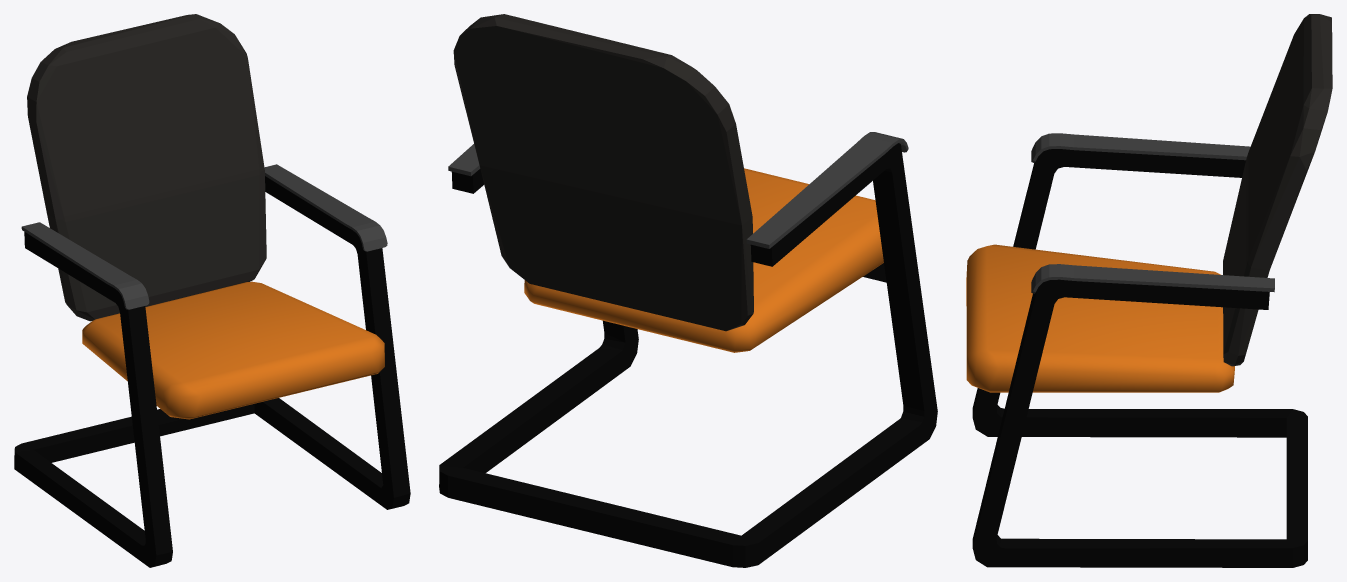
File: cadeira secretaria V1.fbx
3 views of the same model, side by side, from view 1: azimuth 30°, elevation 25°; view 2: azimuth 150°, elevation 25°; view 3: azimuth 270°, elevation 25° (orthographic). The views are drawn at different scales.
Visible parts, largest first — view 1: encosto, suporte, assento, braco; view 2: encosto, suporte, assento, braco; view 3: suporte, assento, encosto, braco.
Part boxes in pixels (box(x1,y1,x2,y2)): encosto: box(27, 14, 266, 321); suporte: box(14, 176, 410, 567); assento: box(82, 281, 384, 419); braco: box(21, 164, 387, 309); encosto: box(453, 14, 753, 331); suporte: box(439, 143, 937, 567); assento: box(524, 168, 883, 352); braco: box(448, 132, 908, 248); suporte: box(972, 149, 1307, 567); assento: box(966, 244, 1234, 392); encosto: box(1223, 14, 1332, 366); braco: box(1031, 133, 1274, 293).
Bounding box in the file's own units: 46.82 × 68.08 × 50.44.
